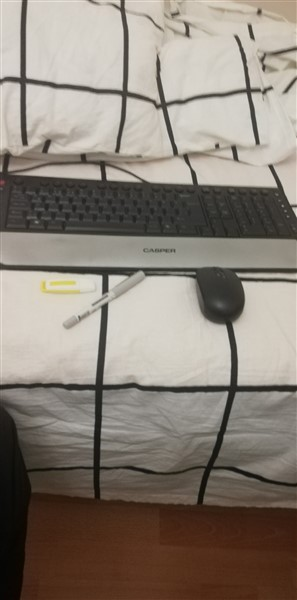flash disk: (40, 274, 99, 295)
klavye: (2, 169, 297, 272)
mouse: (192, 263, 252, 326)
pilot kalem: (64, 268, 148, 327)
